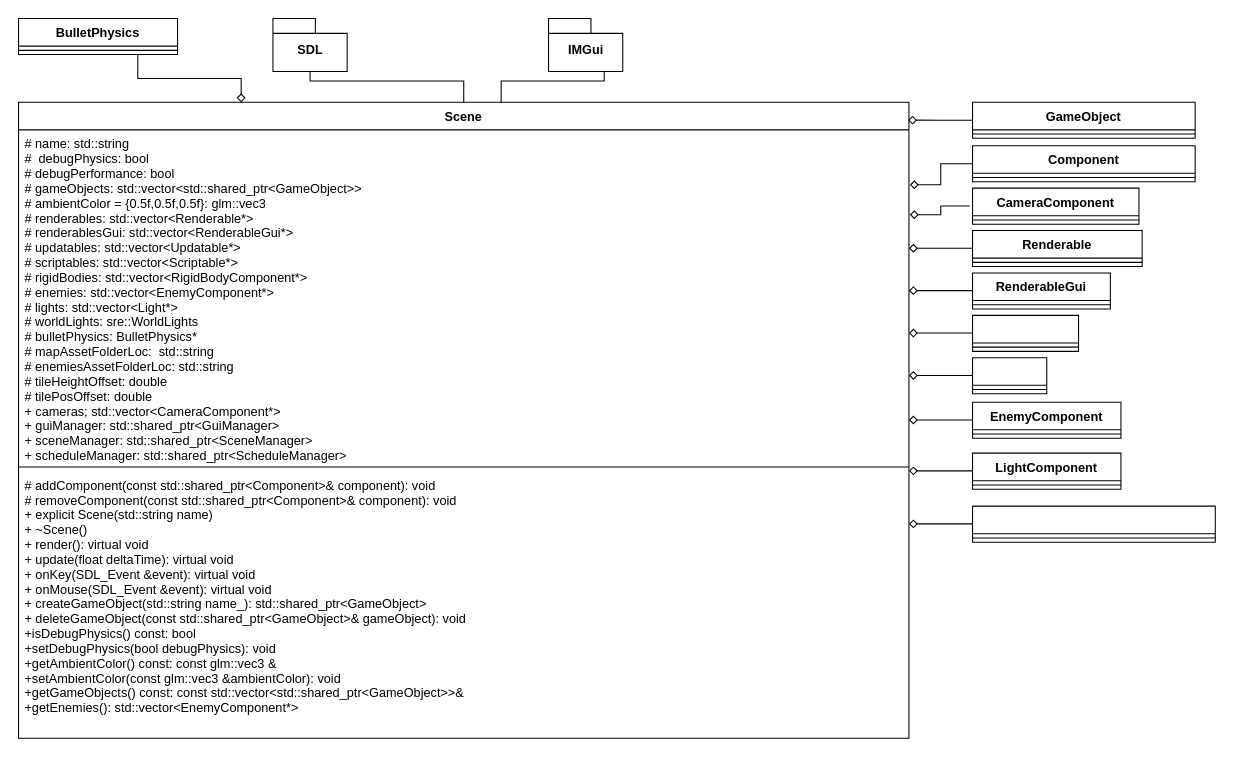
The diagram is 1234 pixels wide and 760 high, and some of its shapes have lost their labels. The shapes that lost their labels are listed below. From the top down, each one's box as (x1, y1, x2, y2) in pixels, then its label:
(971, 314, 1079, 351): Updatable
(971, 357, 1047, 394): Scriptable
(971, 505, 1215, 542): RigidBodyComponent
